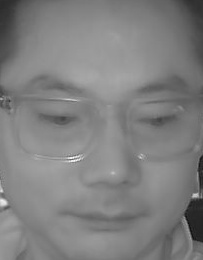eye: (37, 109, 76, 130), (139, 111, 176, 131)
glass: (13, 91, 98, 162), (122, 93, 202, 160)
mouth: (63, 197, 143, 234)
